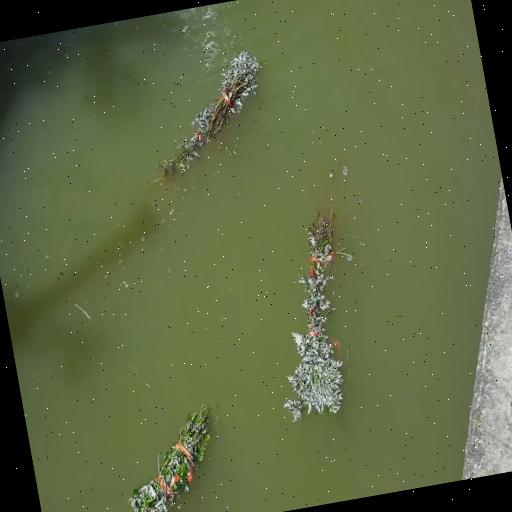twig: (284, 131, 352, 421), (158, 49, 261, 175), (129, 406, 210, 511)
